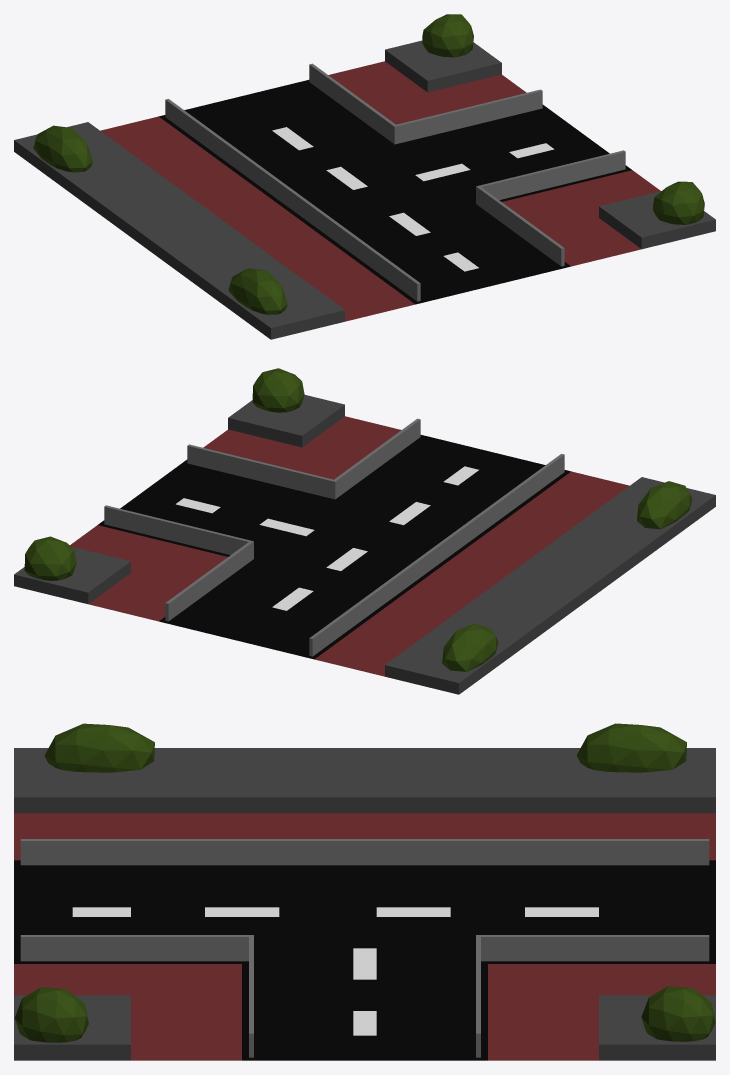
The model's file is RoadTLvl1.fbx.
3 views of the same model, one above another, from view 1: azimuth 30°, elevation 25°; view 2: azimuth 150°, elevation 25°; view 3: azimuth 270°, elevation 25° (orthographic). The views are drawn at different scales.
Visible parts, largest first — view 1: Road_T_CornerLvL1.001; view 2: Road_T_CornerLvL1.001; view 3: Road_T_CornerLvL1.001.
Part boxes in pixels (x1=…): Road_T_CornerLvL1.001: x1=14, y1=14, x2=715, y2=339; Road_T_CornerLvL1.001: x1=14, y1=368, x2=715, y2=694; Road_T_CornerLvL1.001: x1=14, y1=723, x2=715, y2=1060.
Size of the model in its own units: 800 by 83.32 by 800.
